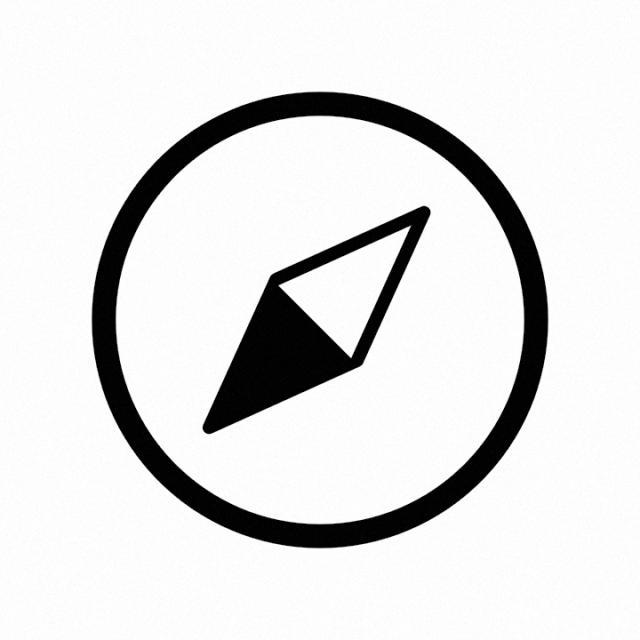compass: (84, 87, 559, 565)
